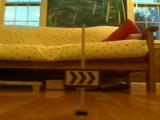right: (64, 69, 99, 86)
